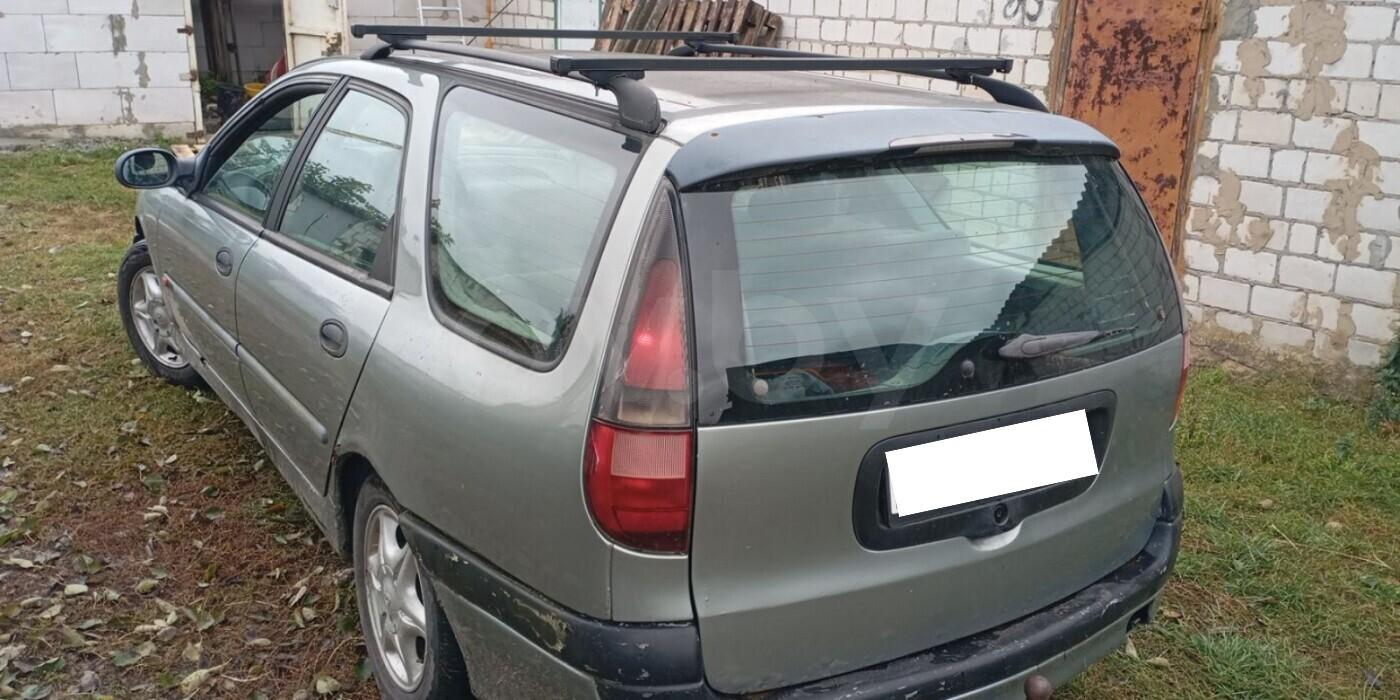Lahuna_1993-1999: (103, 35, 1199, 700)
